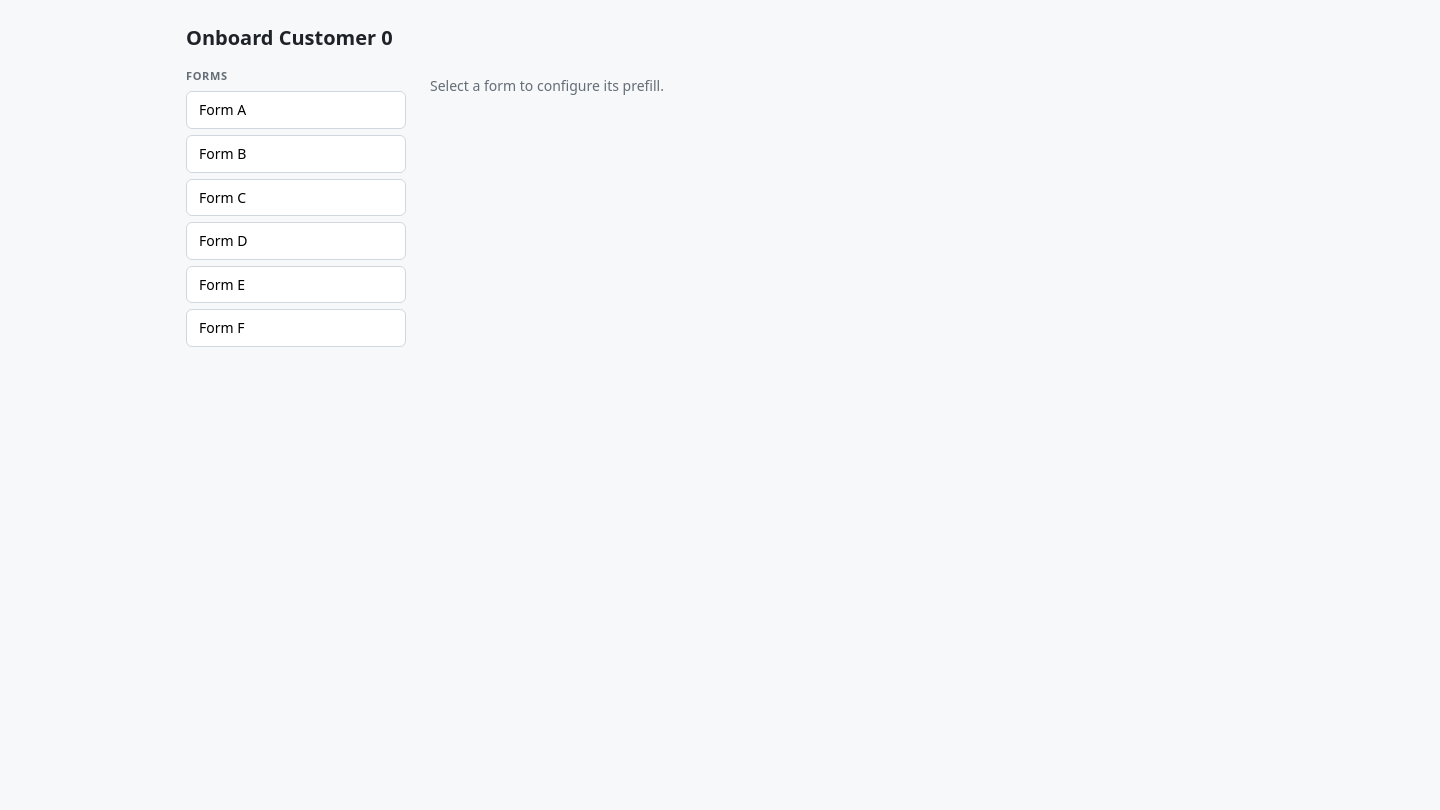
Scenario: the prefill flow › maps Form D's email to Form A's email, as in the reference, and clears it
Expected: the heading "Onboard Customer 0" is shown, [186,24,393,51]
Click the button "Form D" at (296, 241), box [186,222,406,260]
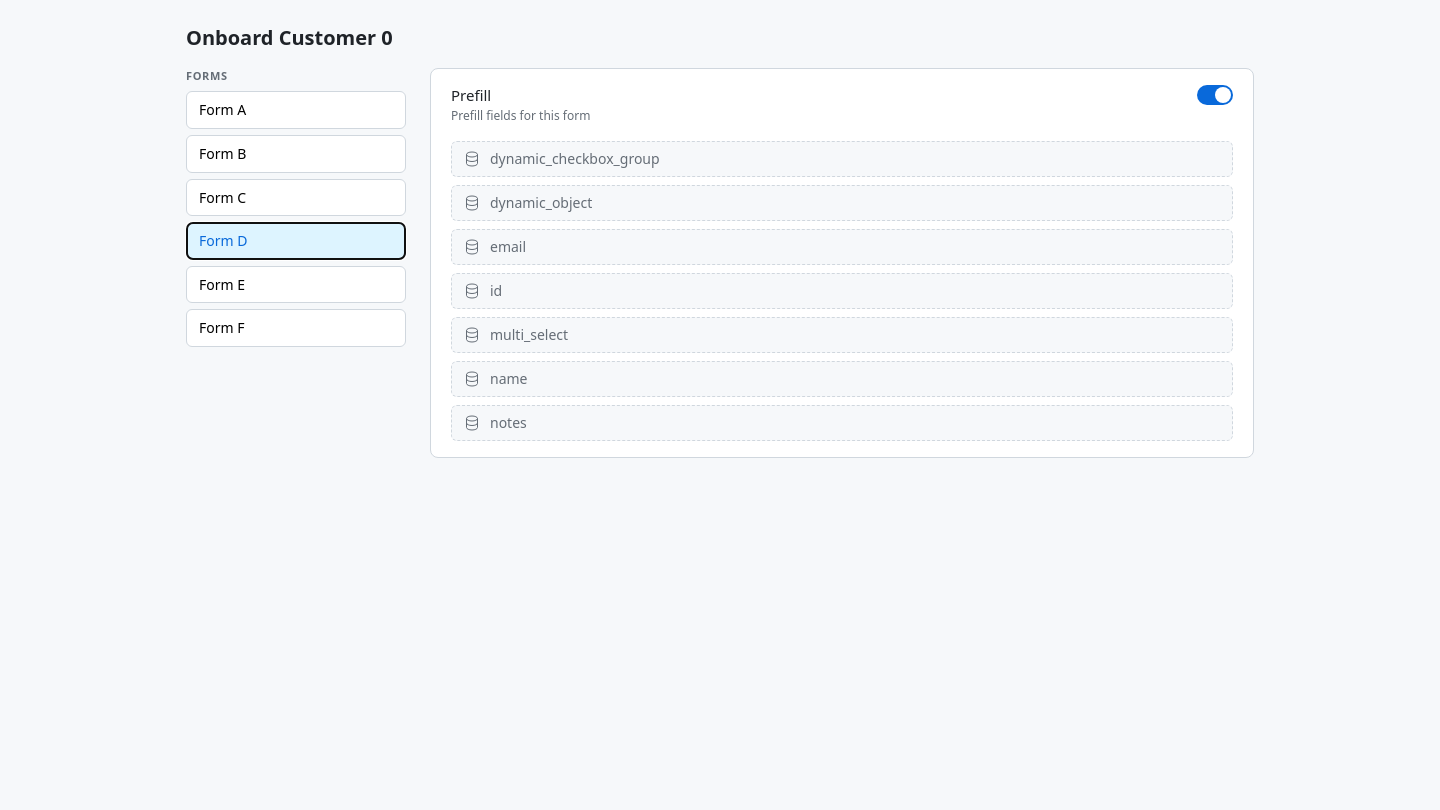
Click the button with aria-label "email, no prefill configured" at (508, 246), box [451,229,1233,265]
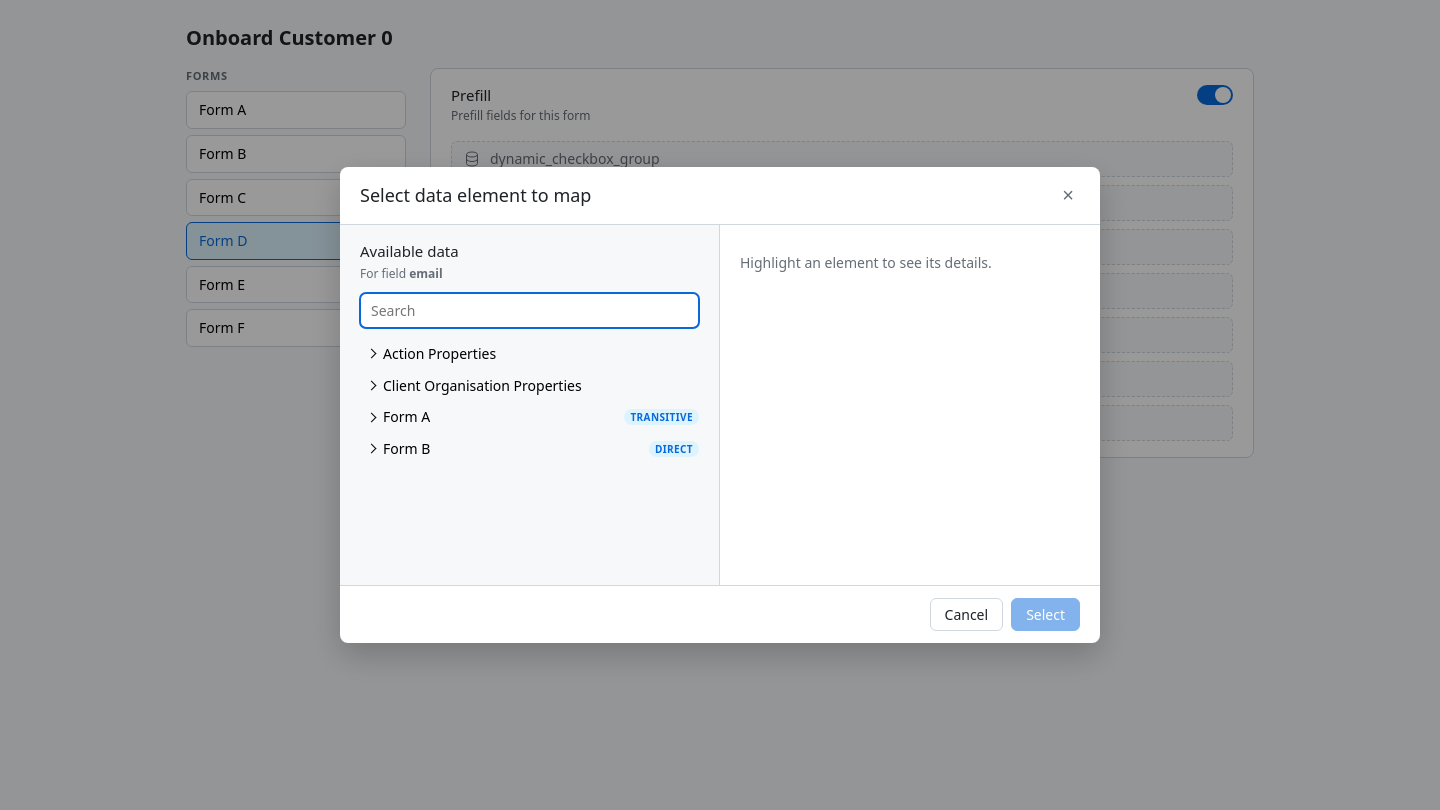
Now the text "For field email" is shown, box [360,265,443,282]
Click the button "Form A" at (488, 417), box [360,401,616,433]
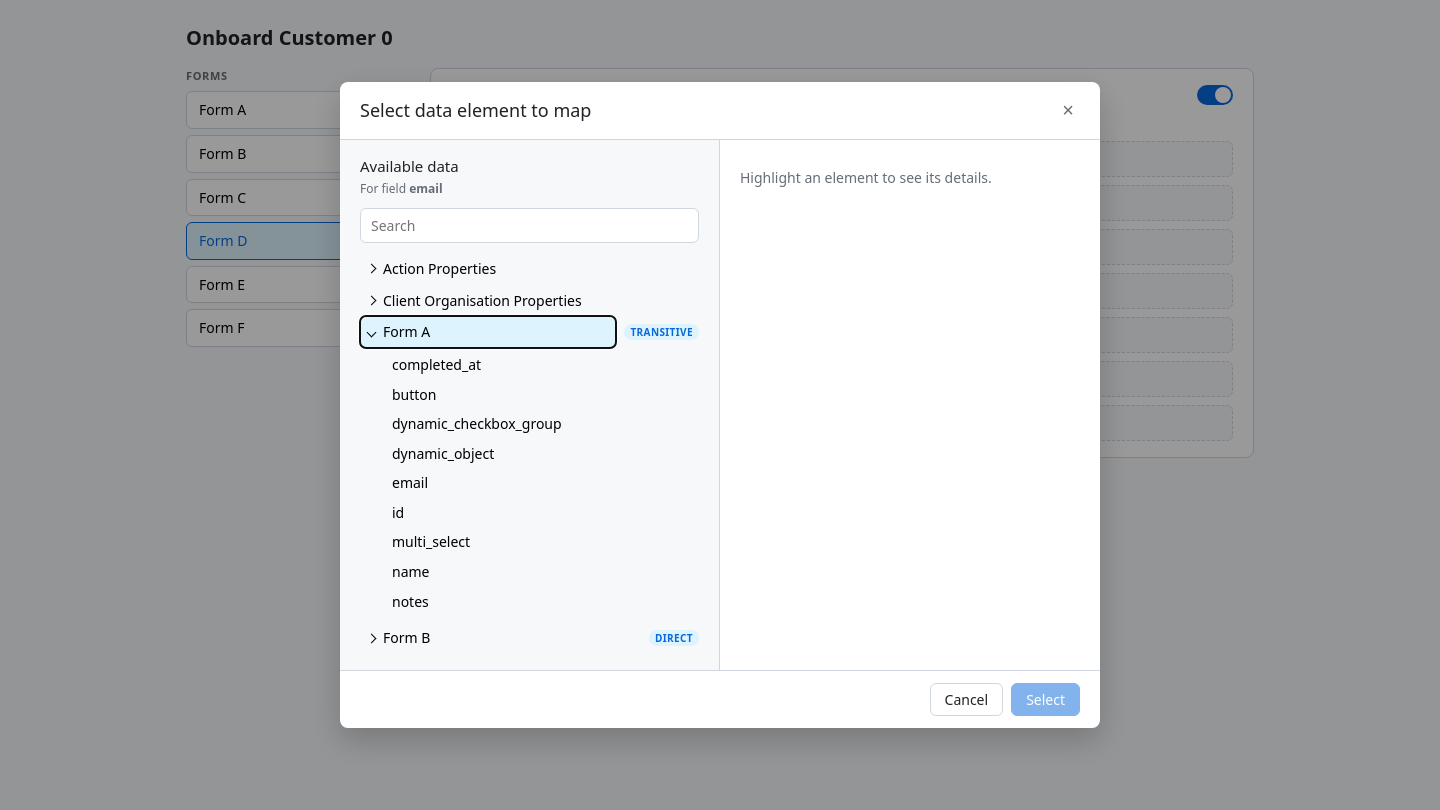
Click the button "email" at (410, 483), box [384,468,699,498]
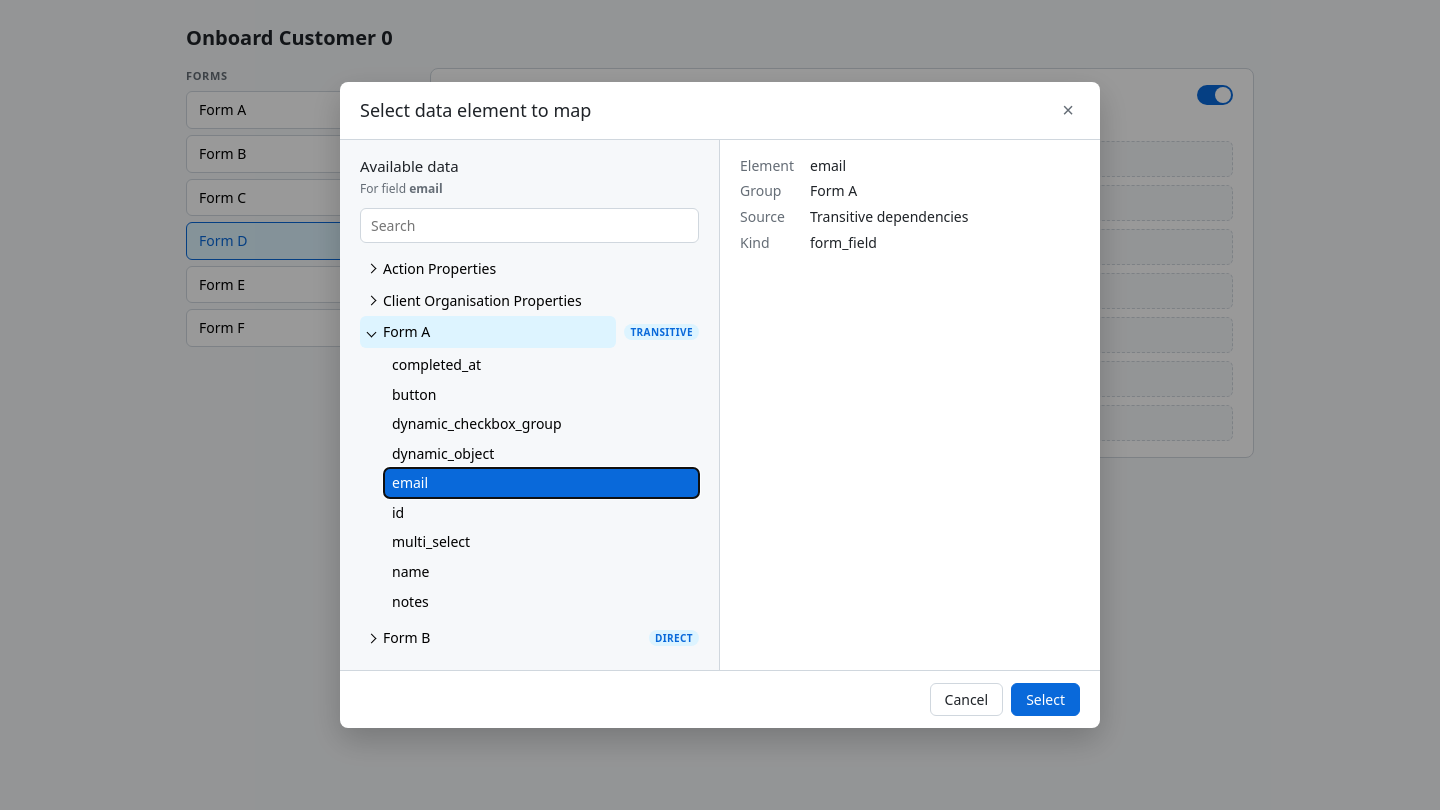
Click the button "Select" at (1046, 700), box [1011,683,1080,716]
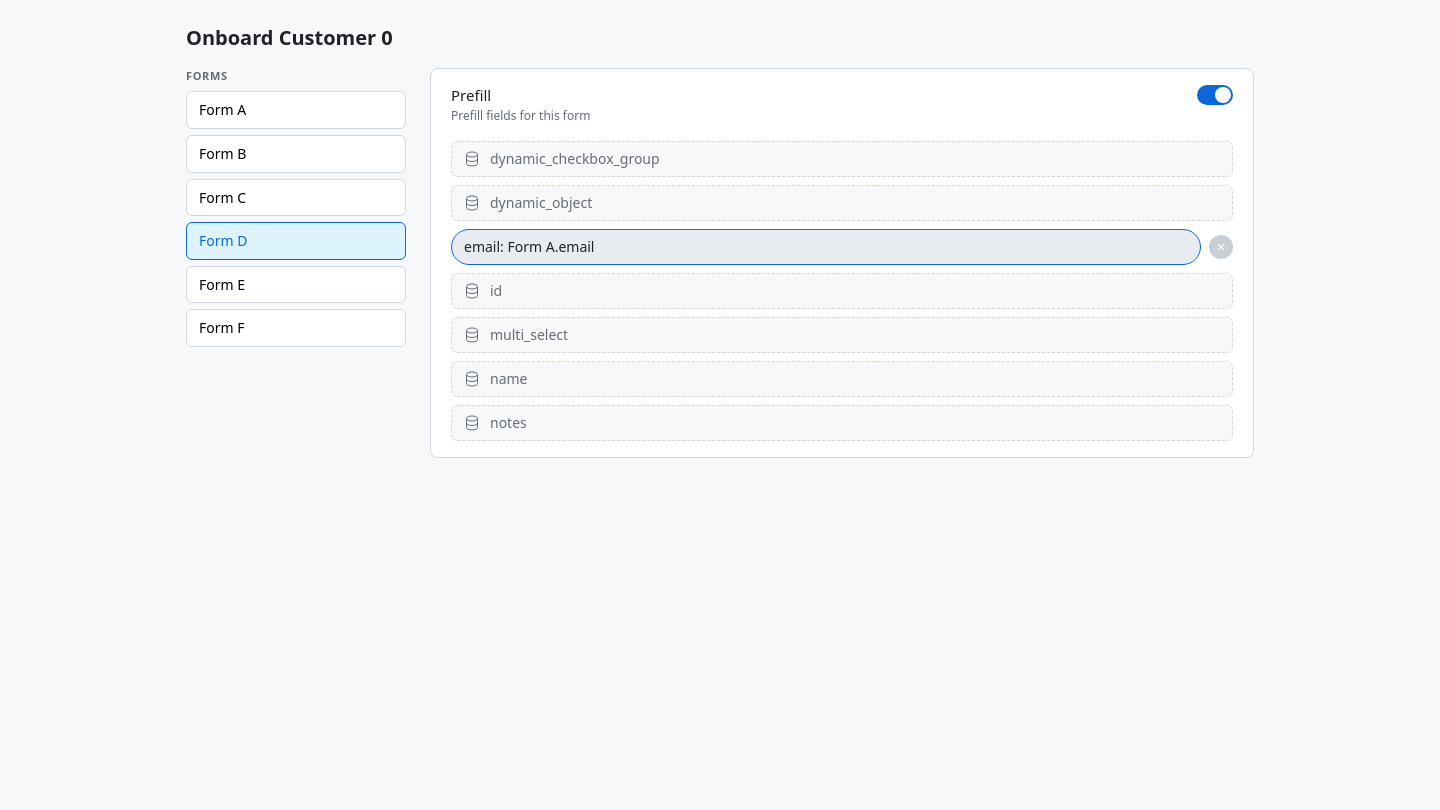
Now the dialog is gone
Click the button named "Clear prefill for email" at (1221, 247), box [1209,235,1233,259]
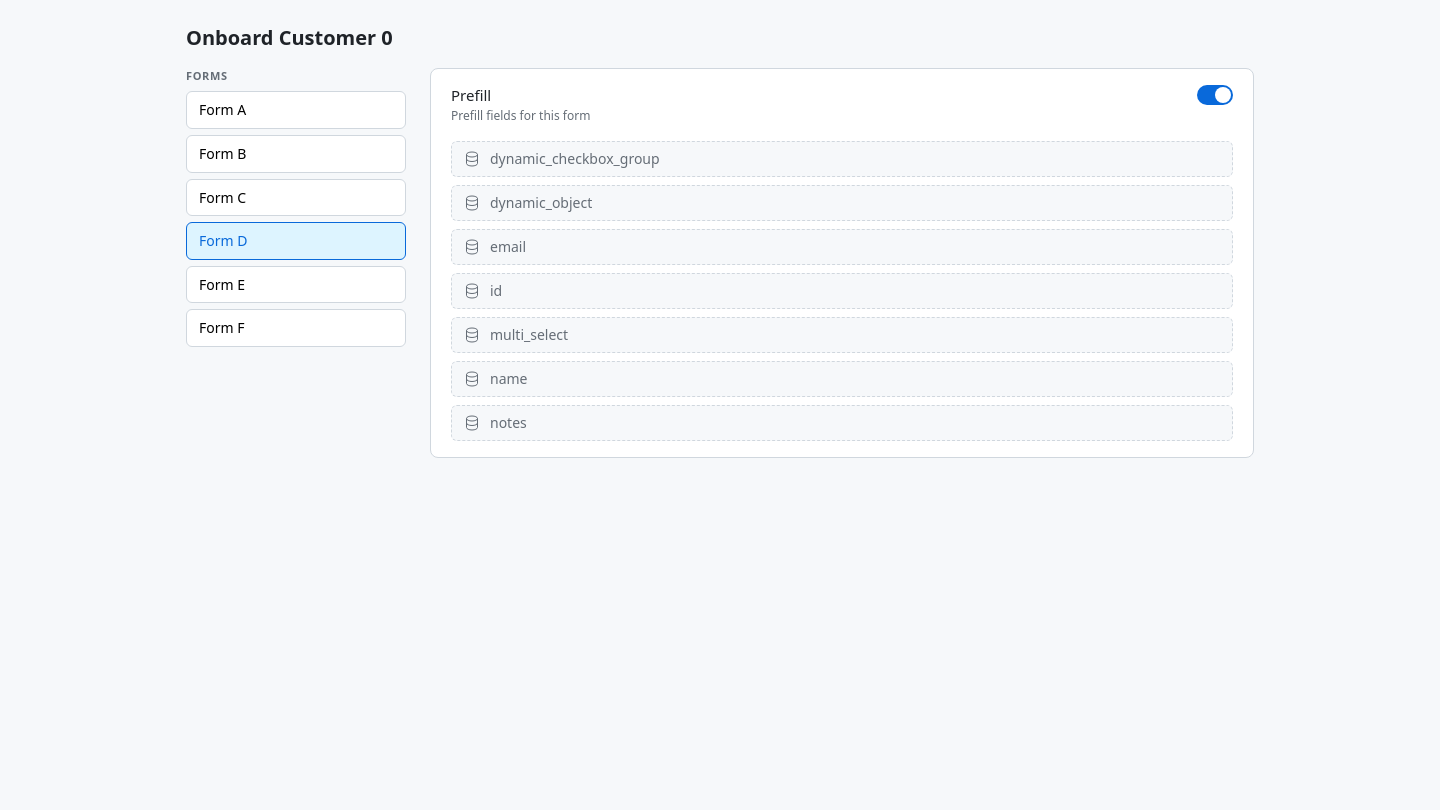
Now the button with aria-label "email, no prefill configured" is shown, box [451,229,1233,265]
